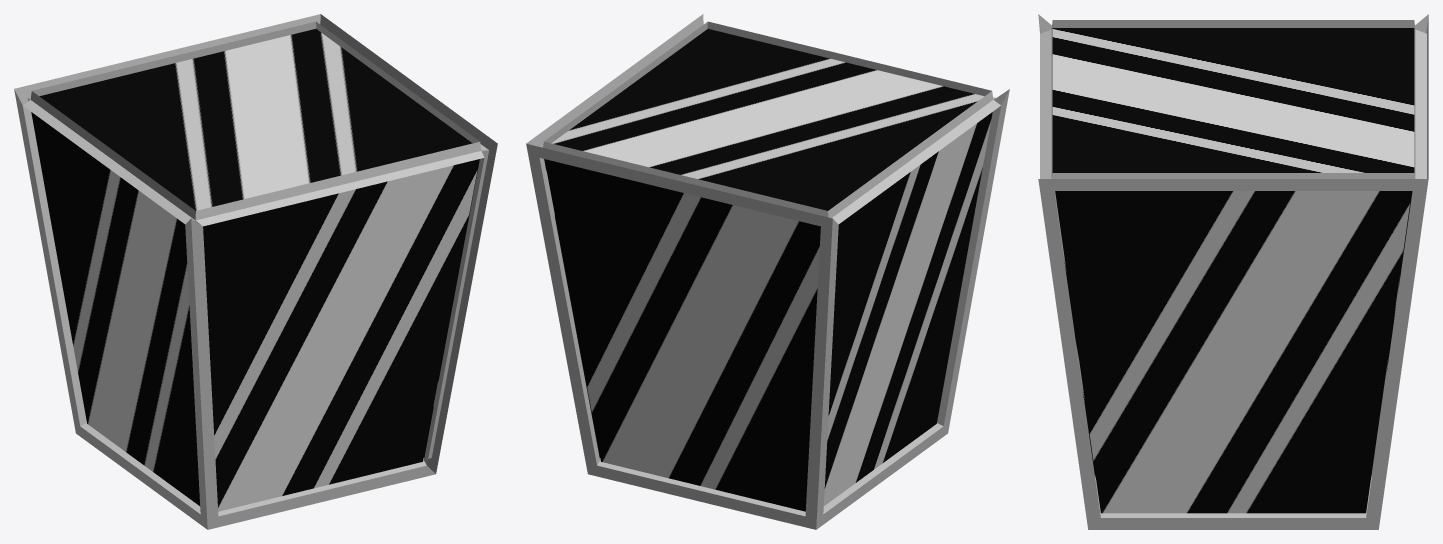
The model's file is showcase top.fbx.
3 views of the same model, side by side, from view 1: azimuth 30°, elevation 25°; view 2: azimuth 150°, elevation 25°; view 3: azimuth 270°, elevation 25° (orthographic). The views are drawn at different scales.
Parts seen in each view (by area): view 1: showcase01; view 2: showcase01; view 3: showcase01.
Boxes of the visible parts, x1=… form: showcase01: x1=14, y1=14, x2=497, y2=529; showcase01: x1=526, y1=14, x2=1009, y2=529; showcase01: x1=1038, y1=14, x2=1428, y2=529.
Bounding box in the file's own units: 103 × 108 × 103.
